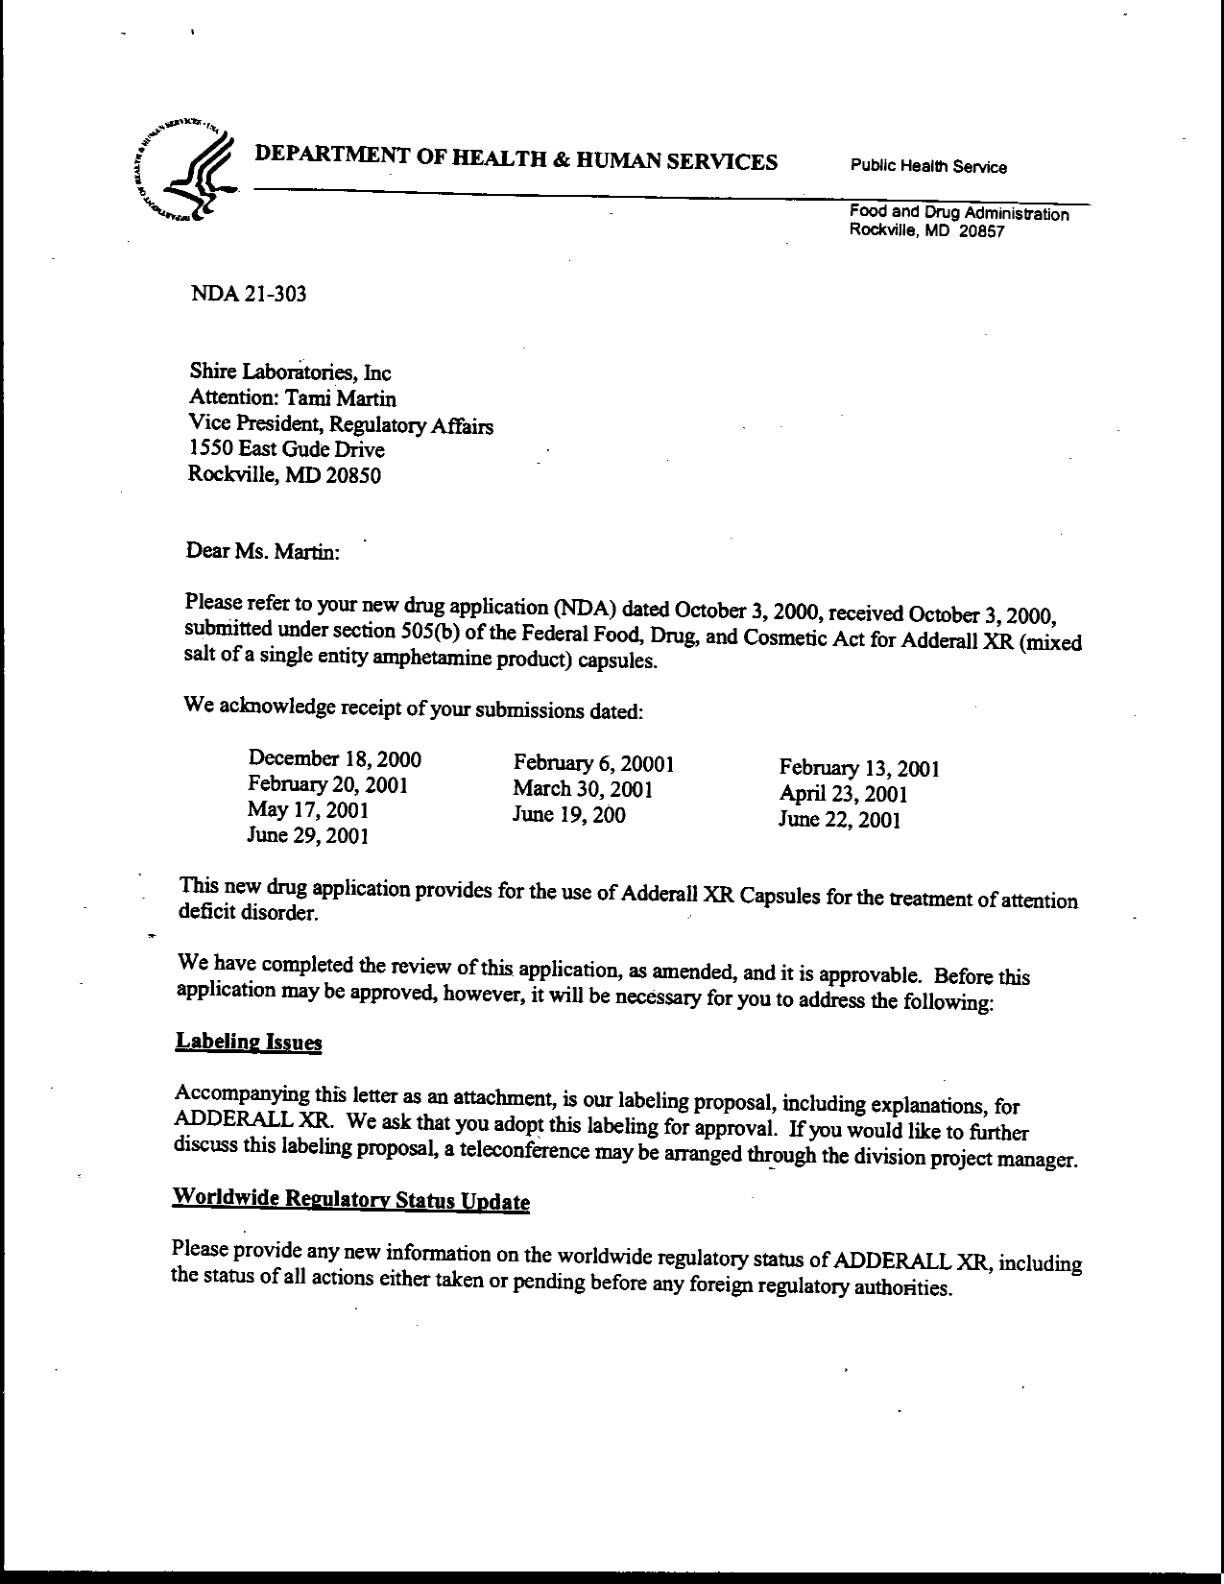nolines: (244, 744, 942, 849)
